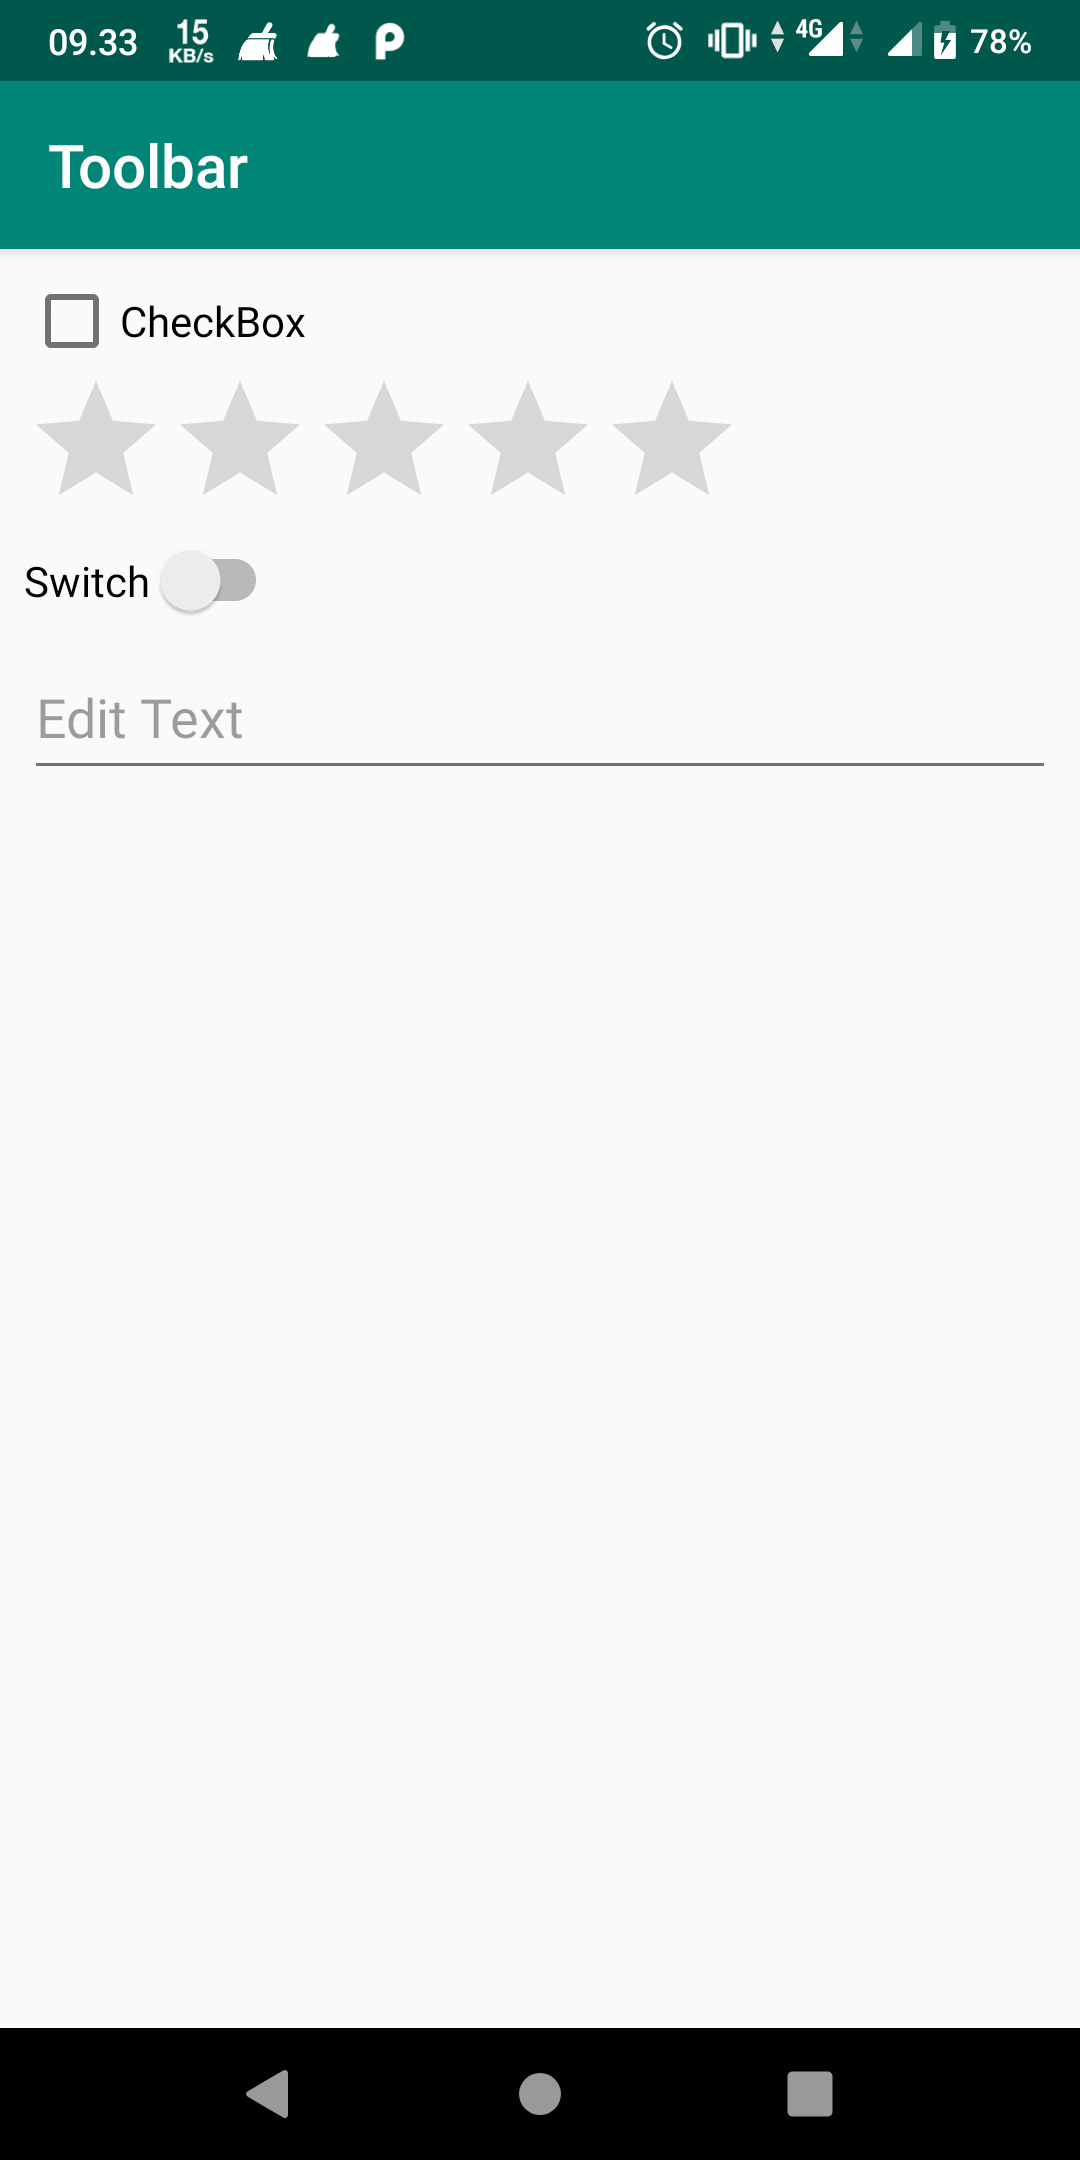checkBox: (39, 282, 322, 354)
editText: (22, 683, 1061, 799)
ratingBar: (28, 377, 738, 501)
switch: (15, 541, 273, 619)
toolbar: (6, 80, 1080, 244)
